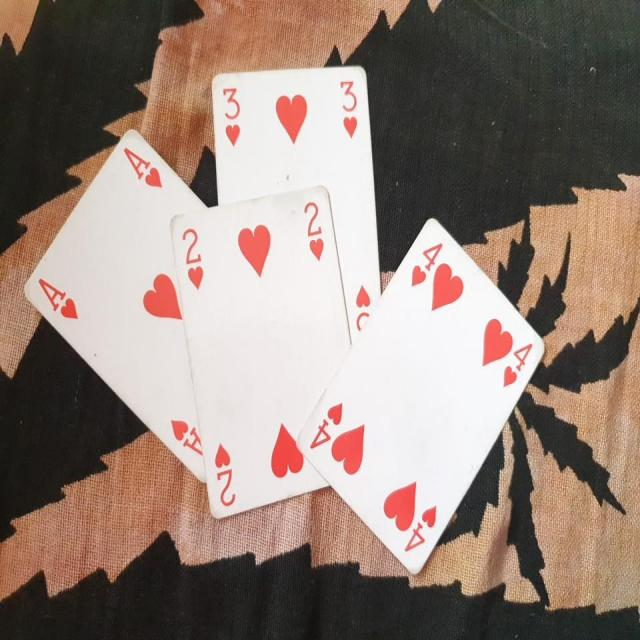2 Hearts: (167, 174, 372, 526)
3 Hearts: (205, 63, 388, 357)
4 Hearts: (301, 204, 545, 574)
A Hearts: (23, 125, 262, 506)
